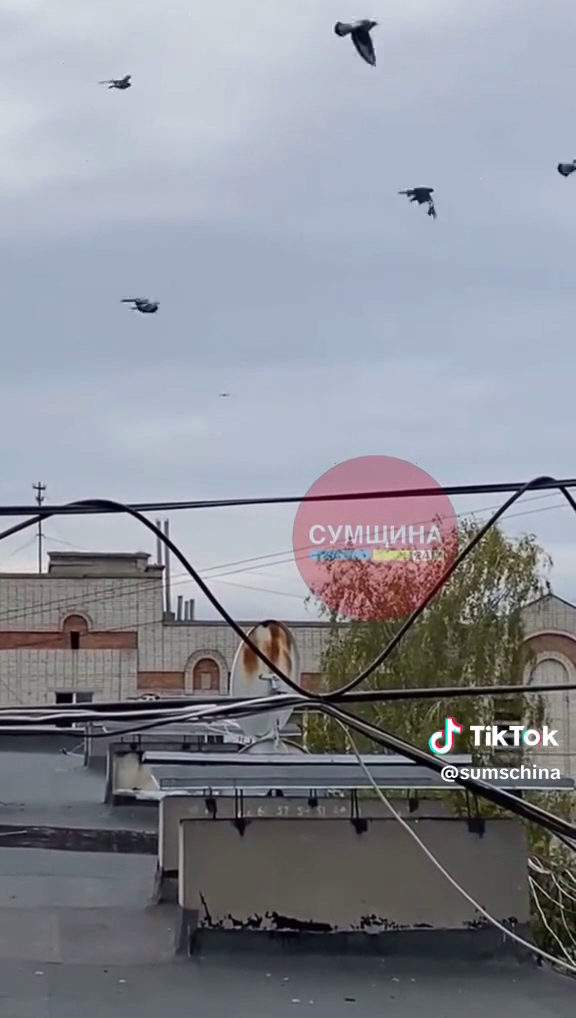not_drone: (330, 12, 382, 70), (394, 184, 445, 222), (114, 294, 169, 320), (94, 66, 134, 93)
